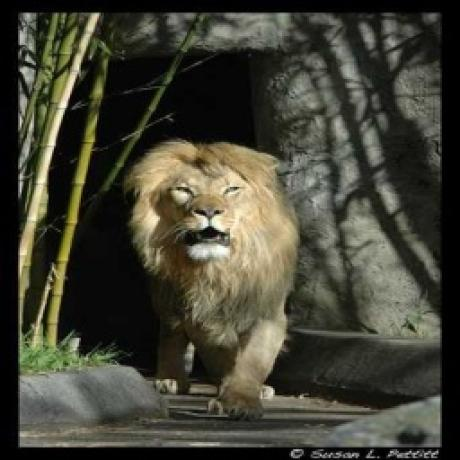Lion: (124, 139, 300, 422)
